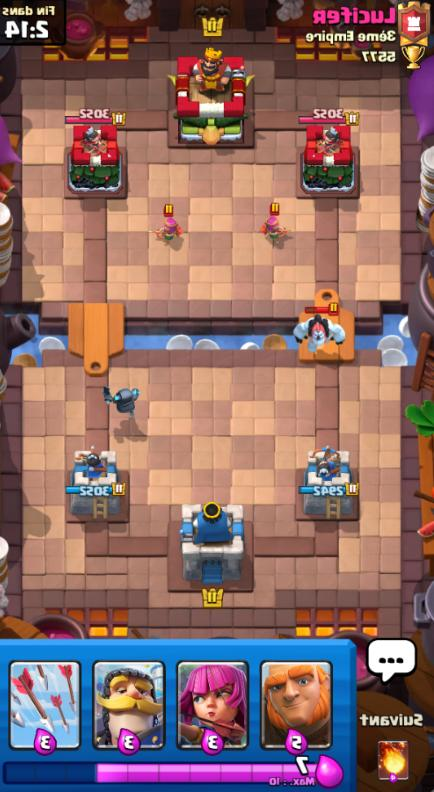archere: (260, 215, 290, 245), (154, 216, 184, 243)
mini_PEKKA: (101, 385, 138, 415)
